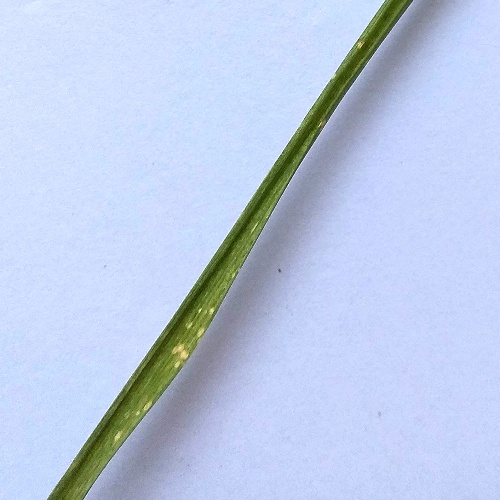Busuk Leher: (165, 335, 192, 370), (134, 391, 158, 423), (182, 315, 208, 343), (112, 423, 124, 450)
